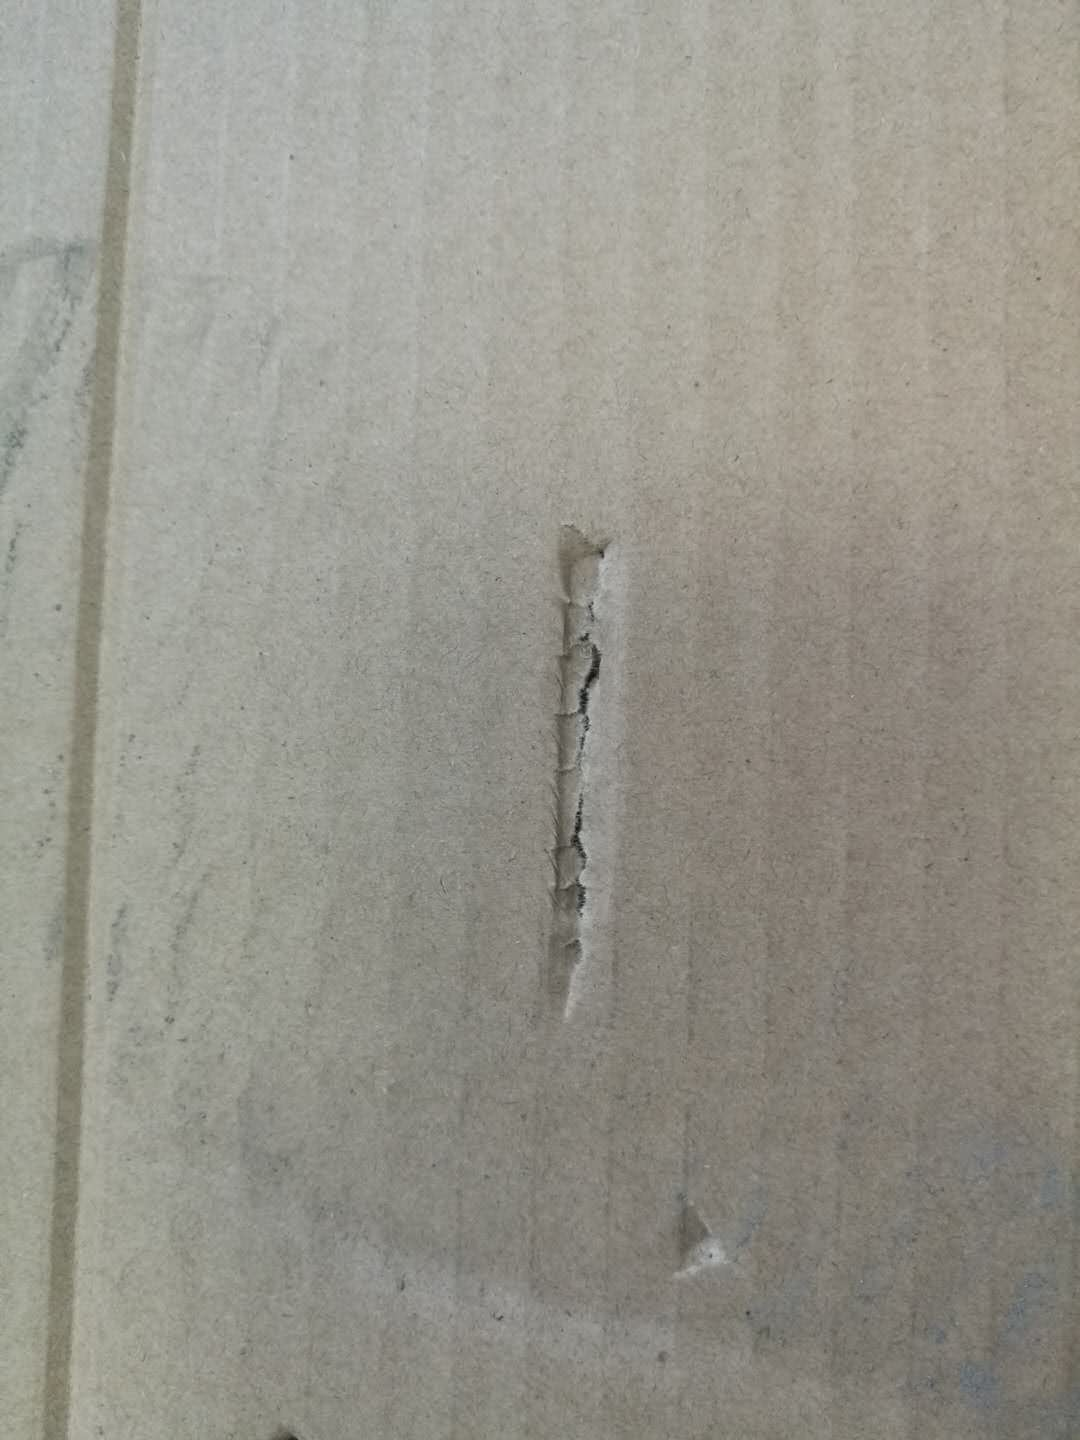defect: (2, 5, 271, 1438), (499, 495, 670, 1062), (649, 1181, 735, 1293)
